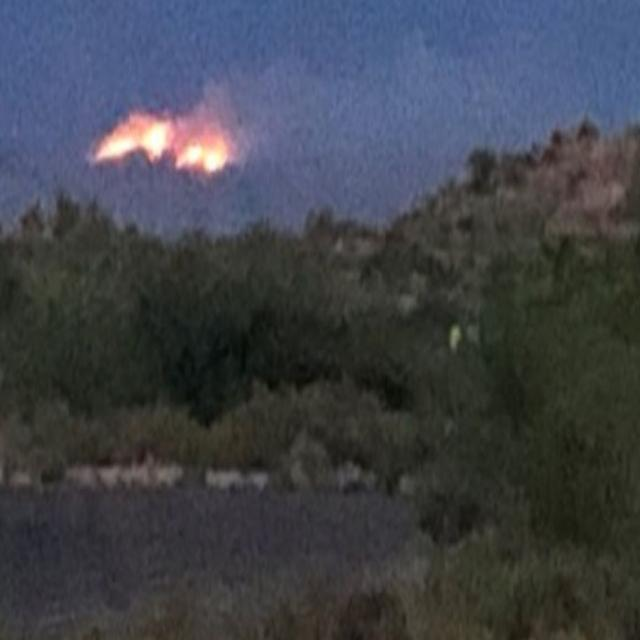Fire: (92, 99, 221, 179)
Smoke: (197, 32, 513, 176)
